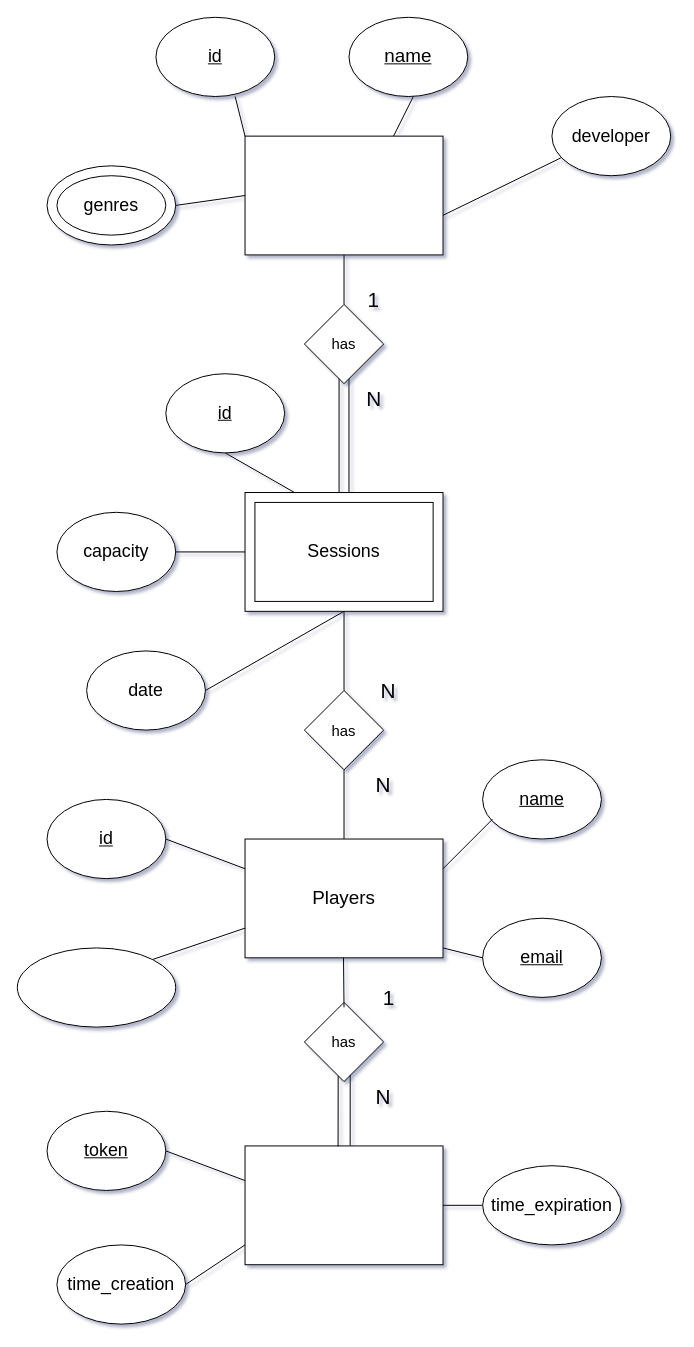
The diagram is 694 pixels wide and 1347 high, and some of its shapes have lost their labels. The shapes that lost their labels are listed below. From the top down, each one's box as (x1, y1, x2, y2) in pixels, then its label:
(244, 135, 443, 255): Games
(16, 947, 176, 1027): password_hash
(244, 1145, 443, 1265): Tokens
